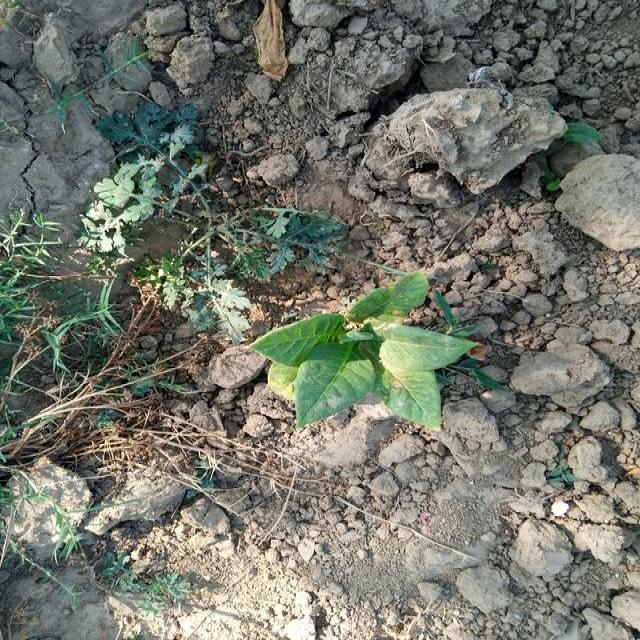crop: (256, 282, 474, 427)
